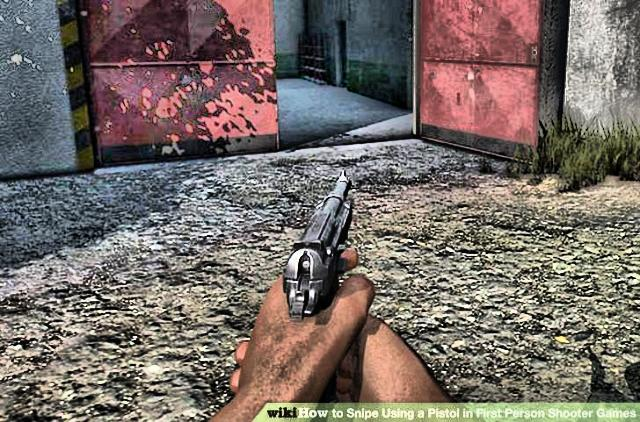pistol: (282, 160, 354, 404)
